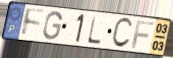1: (75, 14, 85, 44)
C: (110, 16, 134, 50)
F: (130, 19, 156, 50), (21, 7, 46, 39)
G: (41, 10, 64, 41)
L: (85, 15, 103, 47)
